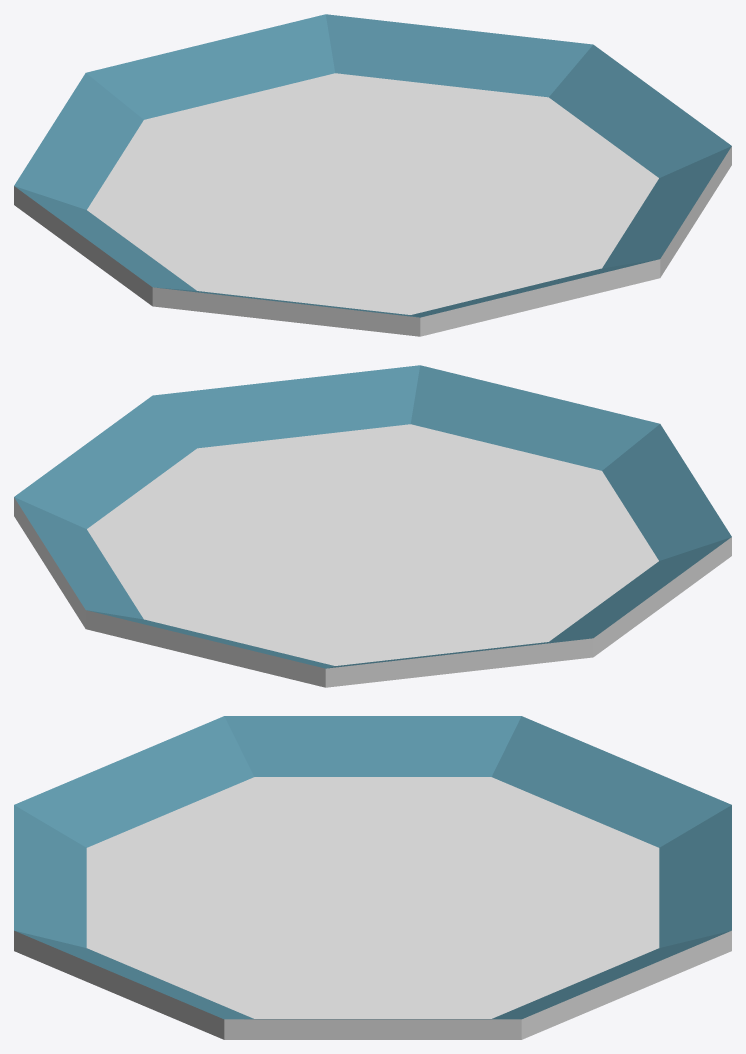
Rendered from SM_Food_Plate_03.fbx.
The picture shows the model from 3 angles, top to bottom: view 1: azimuth 30°, elevation 25°; view 2: azimuth 150°, elevation 25°; view 3: azimuth 270°, elevation 25°; orthographic projection. The views are drawn at different scales.
Visible parts, largest first — view 1: SM_Food_Plate_03; view 2: SM_Food_Plate_03; view 3: SM_Food_Plate_03.
Boxes of the visible parts, x1,y1,x2,y2 form: SM_Food_Plate_03: (14,14,731,336); SM_Food_Plate_03: (14,365,731,687); SM_Food_Plate_03: (14,716,731,1039).
Size of the model in its own units: 0.2594 by 0.0203 by 0.2594.
